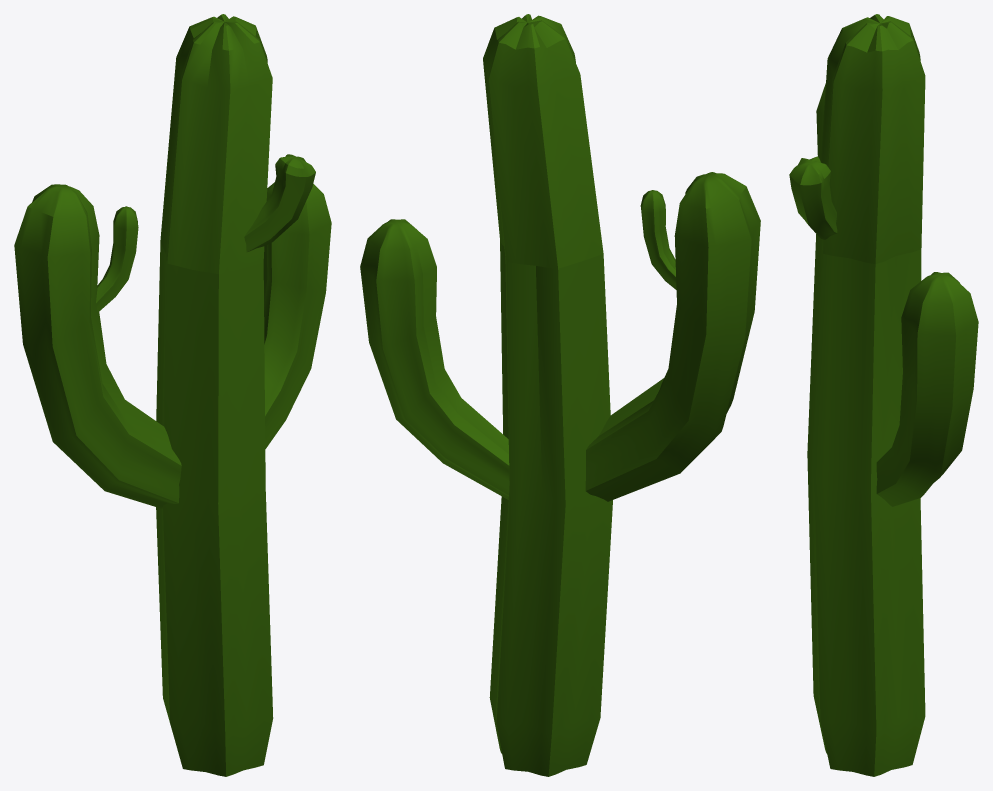
File: cactus3.fbx
The picture shows the model from 3 angles, left to right: view 1: azimuth 30°, elevation 25°; view 2: azimuth 150°, elevation 25°; view 3: azimuth 270°, elevation 25°; orthographic projection.
Parts seen in each view (by area): view 1: cactus.003; view 2: cactus.003; view 3: cactus.003.
Part boxes in pixels (x1,y1,x2,y2): cactus.003: (14,14,331,776); cactus.003: (360,14,760,776); cactus.003: (789,14,978,776).
Size of the model in its own units: 41.74 by 84.79 by 19.61.
